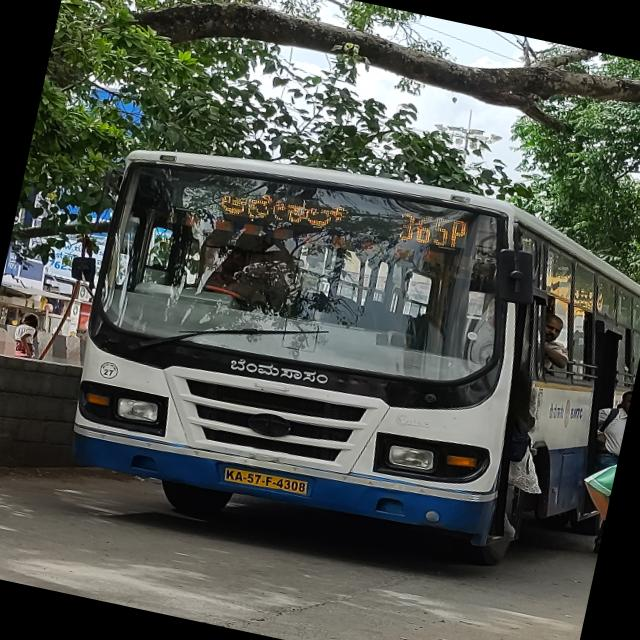bus: (27, 105, 640, 595)
display: (183, 158, 474, 268)
dnumber: (391, 206, 471, 256)
